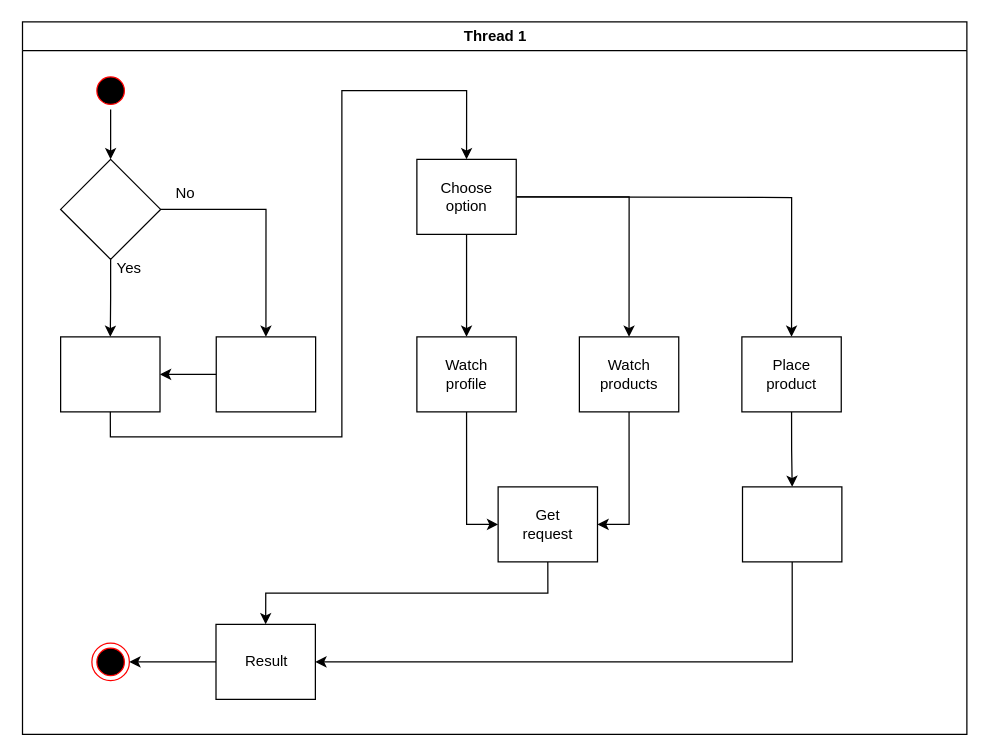
Image size: 989x756. Some labels were removed from this diagram. Here are the shapes that lost their labels. From the top down, the centre of each, then its label:
At (x=110, y=208): "Registrated?".
At (x=109, y=374): "Log In".
At (x=265, y=374): "Sign up".
At (x=791, y=524): "Post requset".
